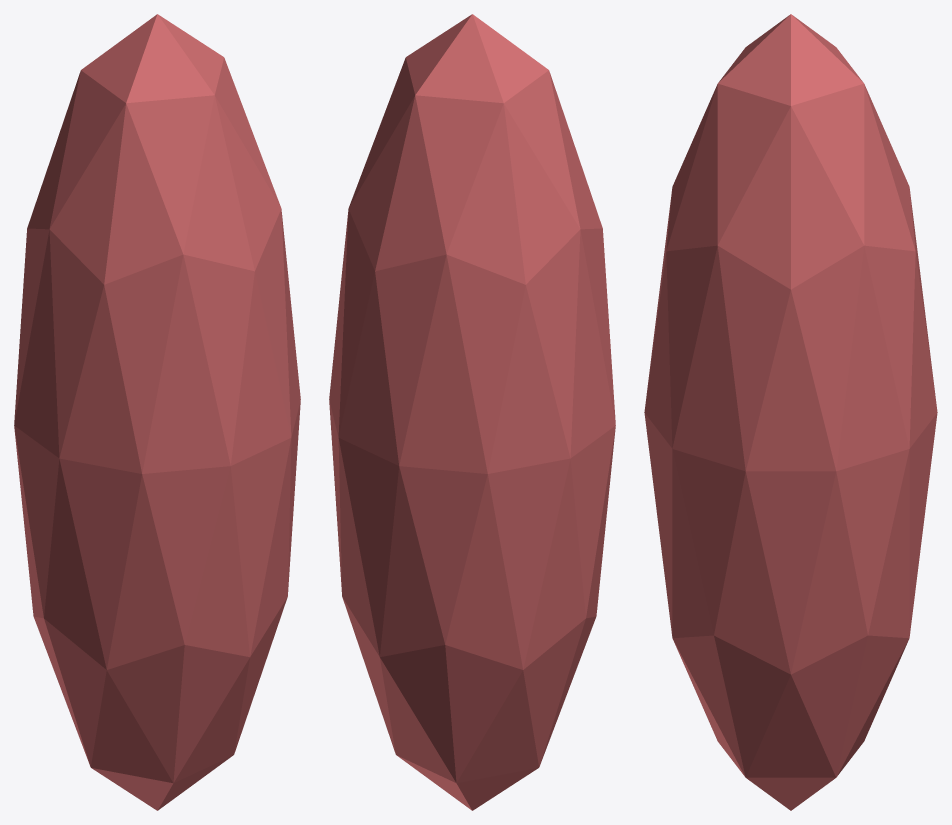
File: bigRock2.fbx
The picture shows the model from 3 angles, left to right: view 1: azimuth 30°, elevation 25°; view 2: azimuth 150°, elevation 25°; view 3: azimuth 270°, elevation 25°; orthographic projection.
Visible parts, largest first — view 1: Icosphere; view 2: Icosphere; view 3: Icosphere.
Boxes of the visible parts, x1,y1,x2,y2 form: Icosphere: (14,14,300,810); Icosphere: (329,14,615,810); Icosphere: (644,14,937,810).
Bounding box in the file's own units: 190 × 600 × 200.
